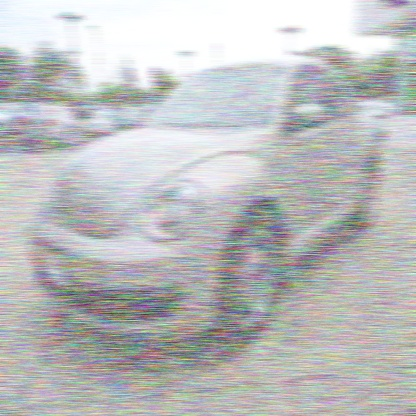Vehicle: (31, 57, 380, 348)
